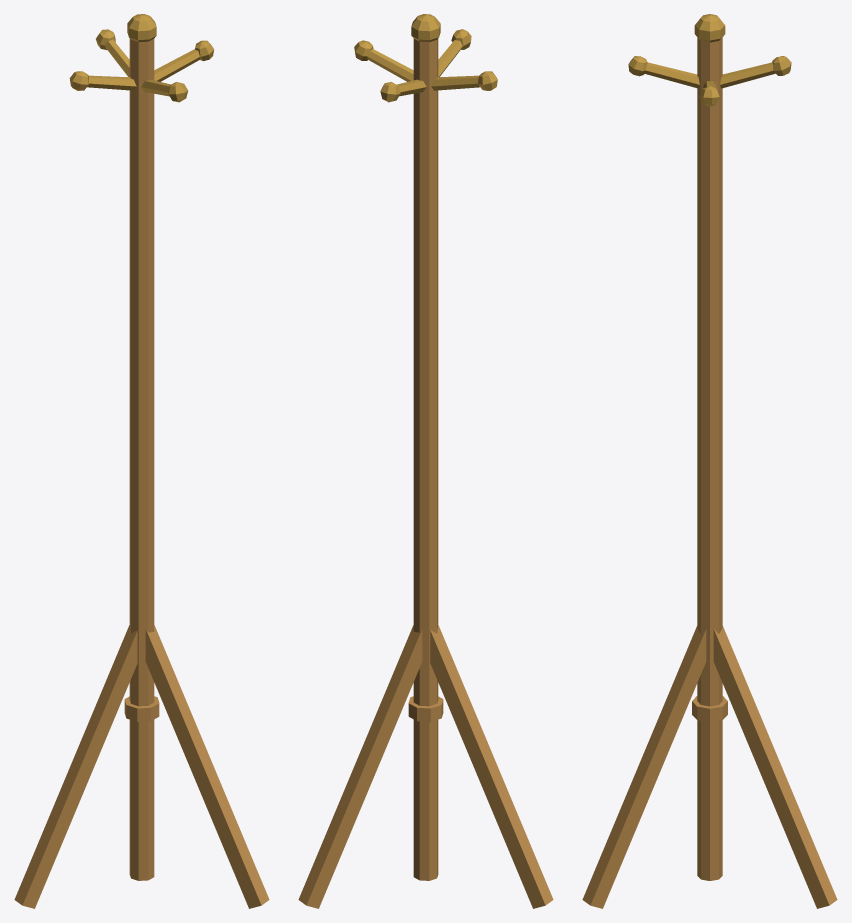
The model's file is SM_LPI_Decor_CoatRack_01.fbx.
The picture shows the model from 3 angles, left to right: view 1: azimuth 30°, elevation 25°; view 2: azimuth 150°, elevation 25°; view 3: azimuth 270°, elevation 25°; orthographic projection.
Parts seen in each view (by area): view 1: SM_LPI_Decor_CoatRack_01; view 2: SM_LPI_Decor_CoatRack_01; view 3: SM_LPI_Decor_CoatRack_01.
Boxes of the visible parts, left/top/right/bottom form: SM_LPI_Decor_CoatRack_01: left=14, top=14, right=269, bottom=908; SM_LPI_Decor_CoatRack_01: left=298, top=14, right=553, bottom=908; SM_LPI_Decor_CoatRack_01: left=582, top=14, right=837, bottom=908.
Bounding box in the file's own units: 0.4214 × 1.79 × 0.4793.
